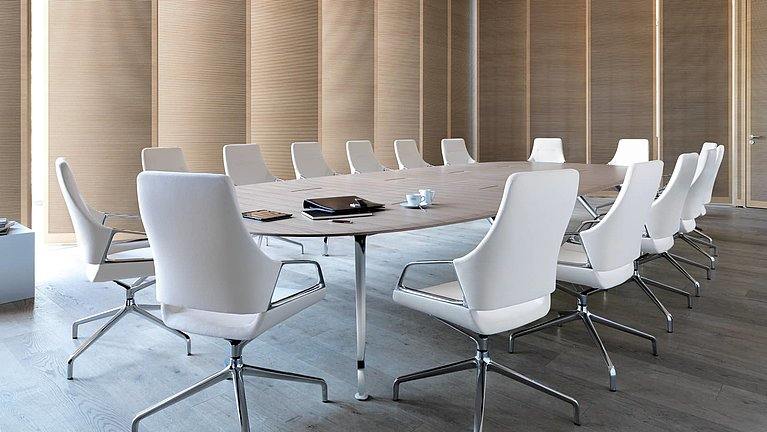conference_table: (231, 159, 668, 401)
